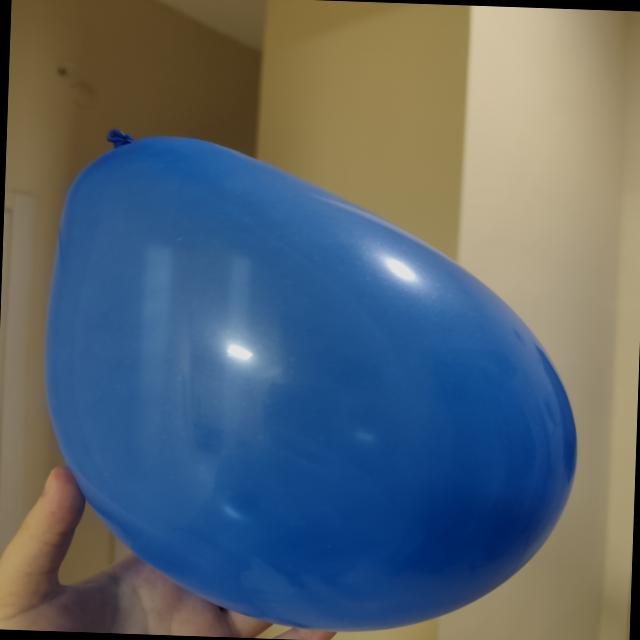balloon: (46, 133, 576, 630)
